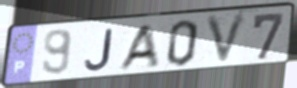0: (164, 18, 200, 69)
7: (251, 12, 286, 62)
9: (41, 28, 74, 81)
A: (115, 22, 161, 73)
J: (83, 26, 115, 73)
V: (204, 11, 250, 68)
